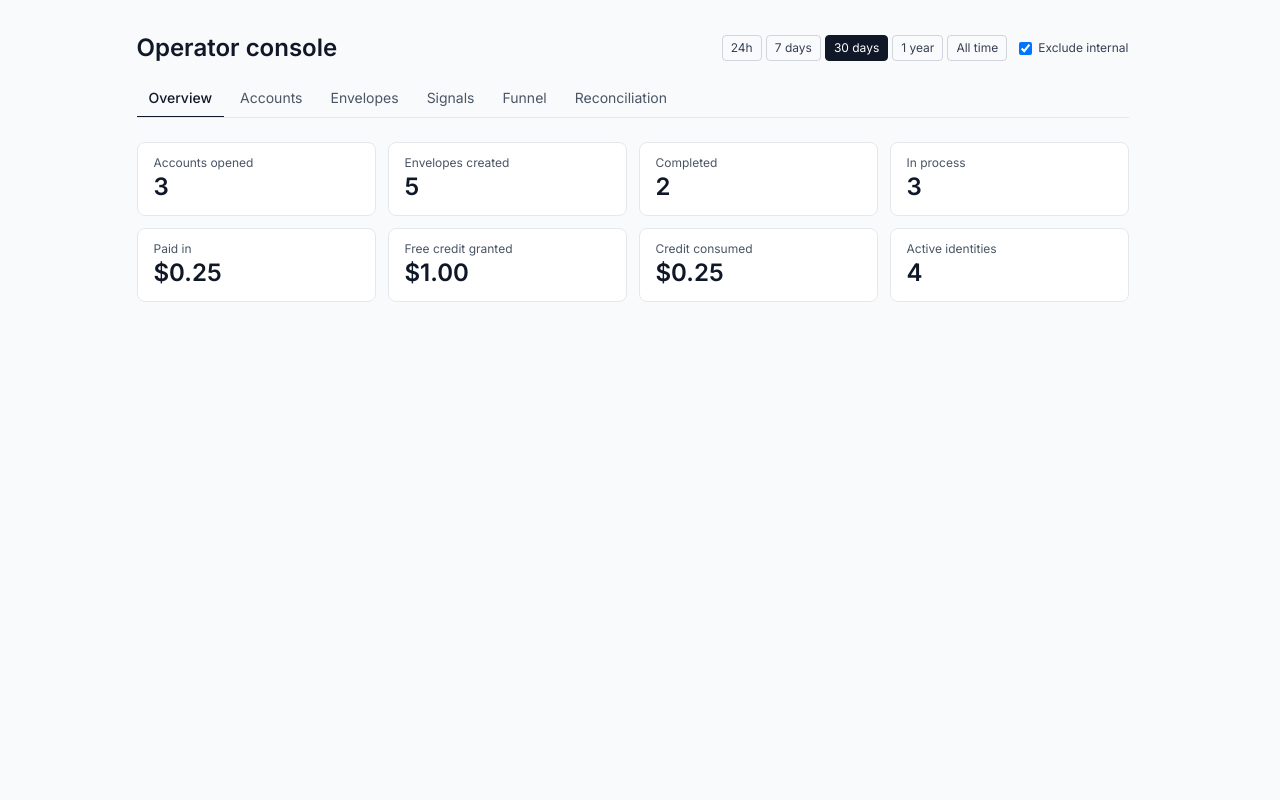
Test case: AdminConsolePage — F-34.8 every tile drills down (AC-203/204) › the ratio and average tiles open the cohort they are computed over (AC-204)
Expected: the button with test id "admin-kpi-accountsOpened" is shown, [136,142,376,216]
Click the button with test id "admin-tab-envelopes".
click(365, 99)  # box [318,80,411,118]
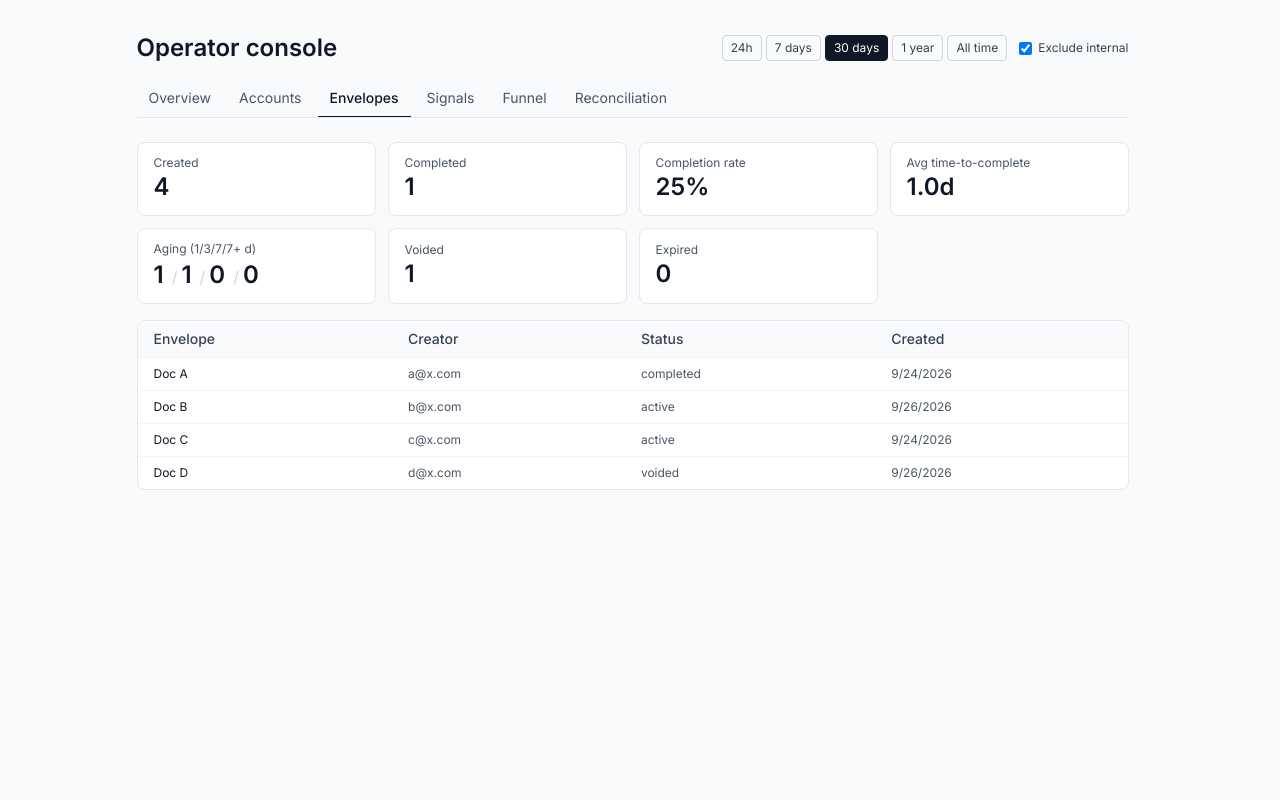
Expected: the button with test id "admin-kpi-funnelCreated" is shown, [136,142,376,216]
Click the button with test id "admin-kpi-funnelRate".
click(758, 179)  # box [638,142,878,216]
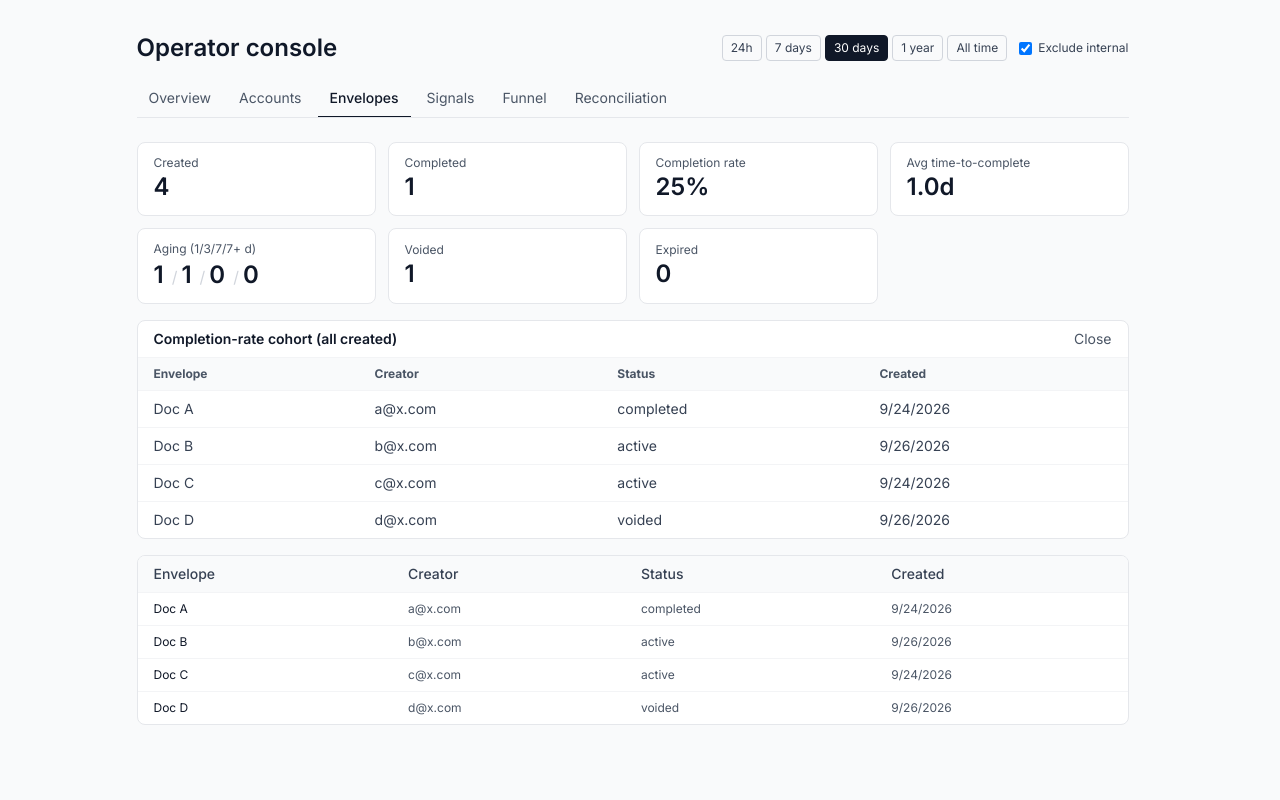
Click the button with test id "admin-drill-close".
click(1093, 339)  # box [1074,329,1112,349]
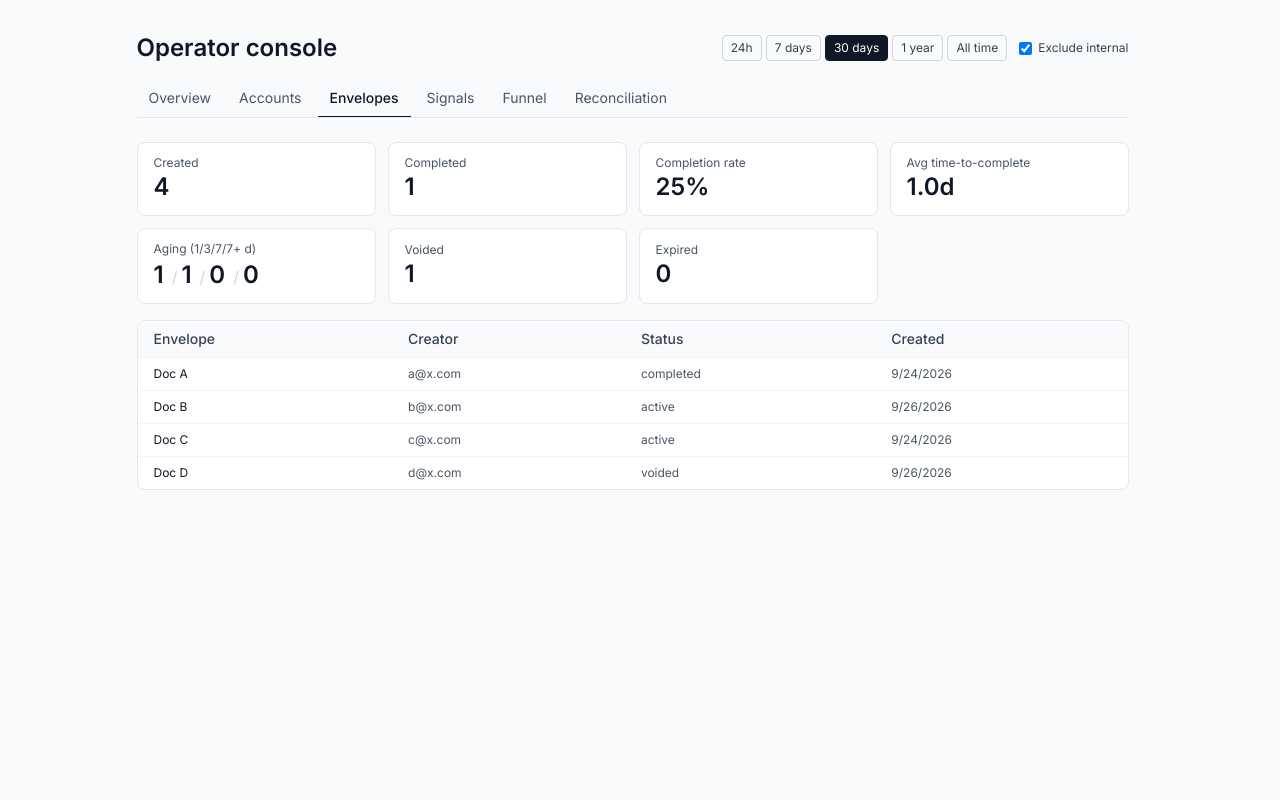
Click the button with test id "admin-kpi-funnelAvg".
click(1009, 179)  # box [890,142,1128,216]
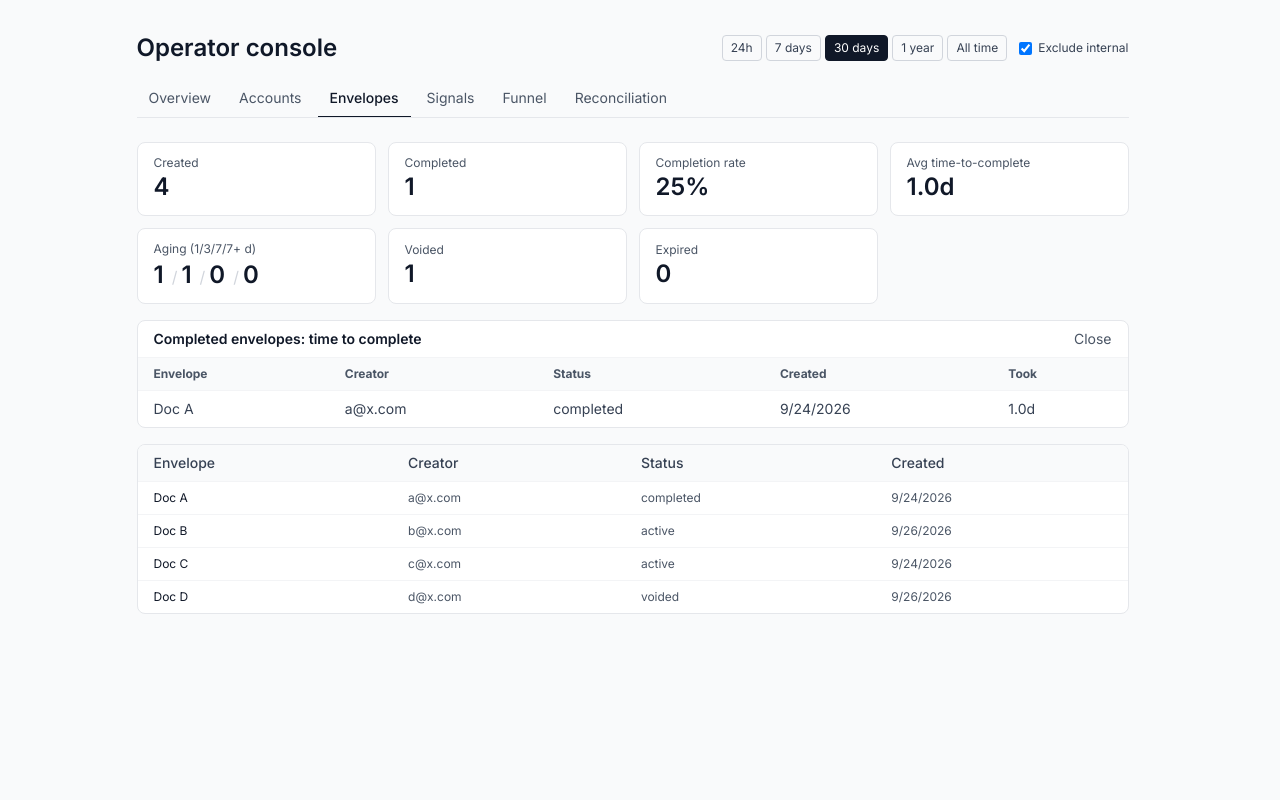
Expected: the element with test id "admin-drill" shows "Took", [1008,366,1037,381]
